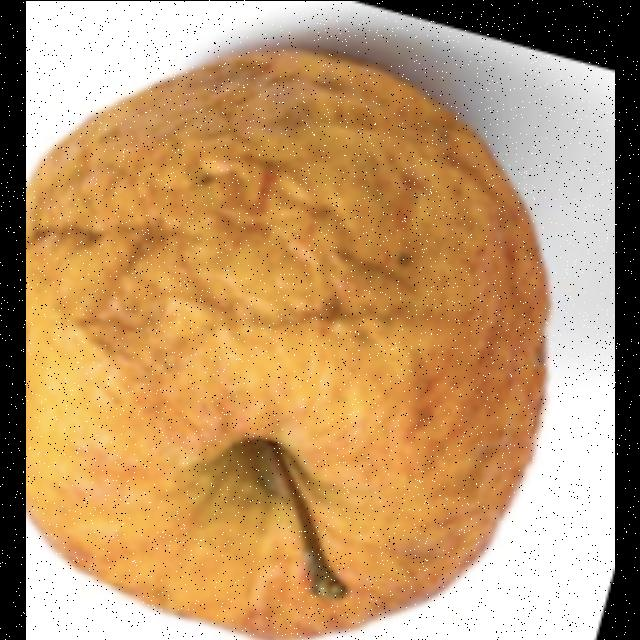Apel Tidak Segar: (25, 46, 559, 640)
